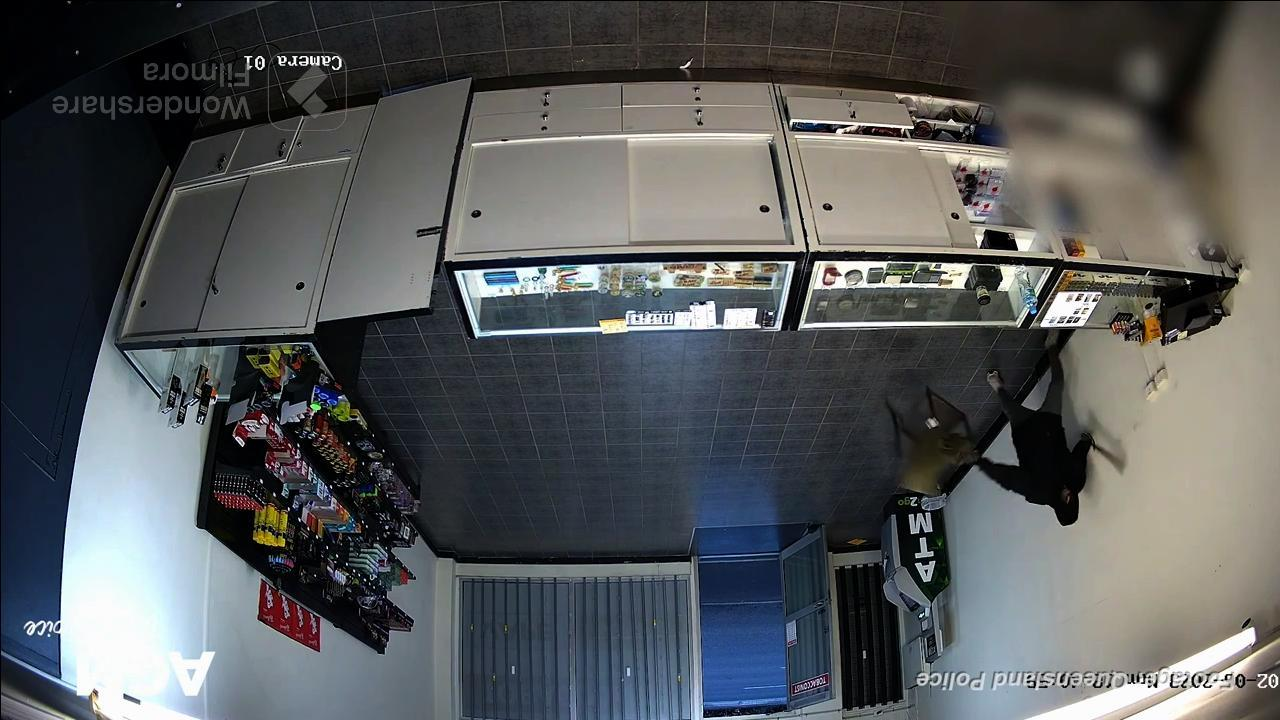melee: (1079, 434, 1124, 472)
